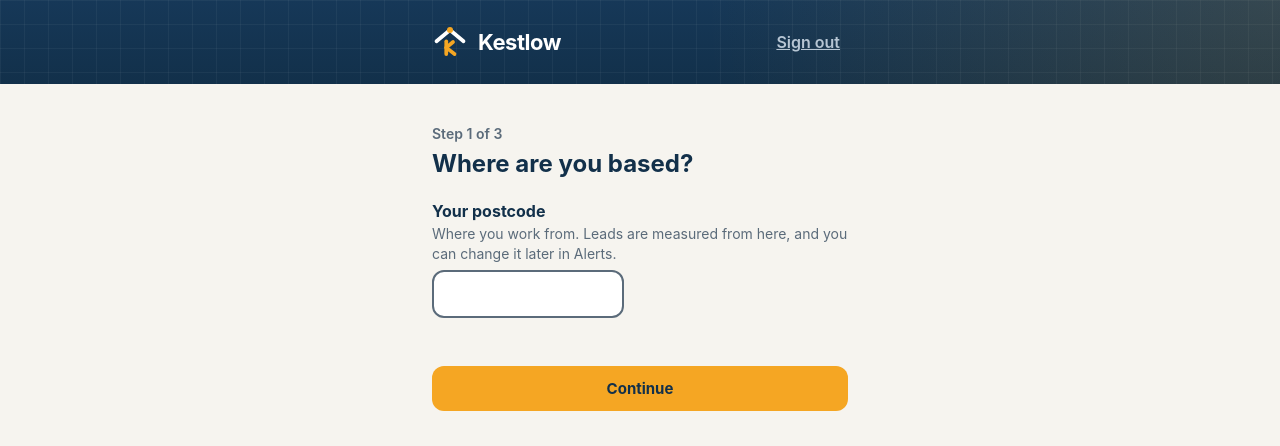
Test: OnboardingGate › can't be skipped: an empty postcode or no trades are refused
Expected: the heading "Where are you based?" is shown, [432,149,693,178]
Click the button "Continue" at (640,389), box [432,366,848,411]
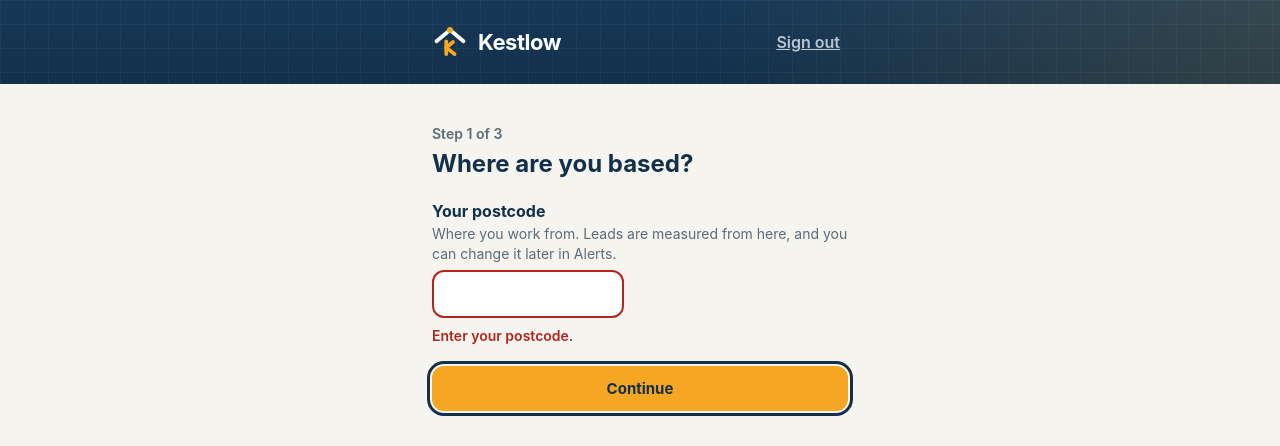
Result: the message reads "Enter your postcode." at [432,327,573,344]
Type "ZZ9 9ZZ" into the field labelled "Your postcode" at (528,294), box [432,270,624,318]
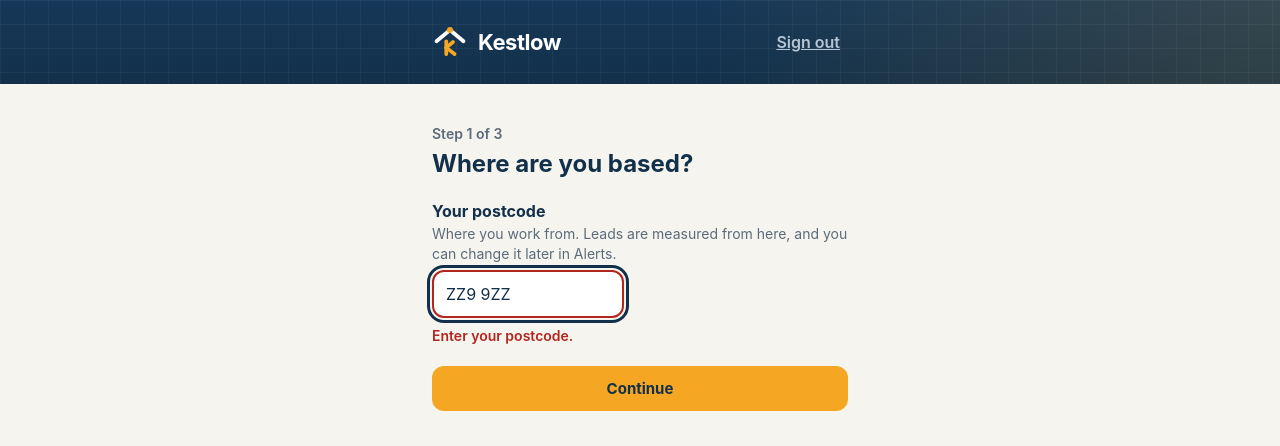
Click the button "Continue" at (640,389), box [432,366,848,411]
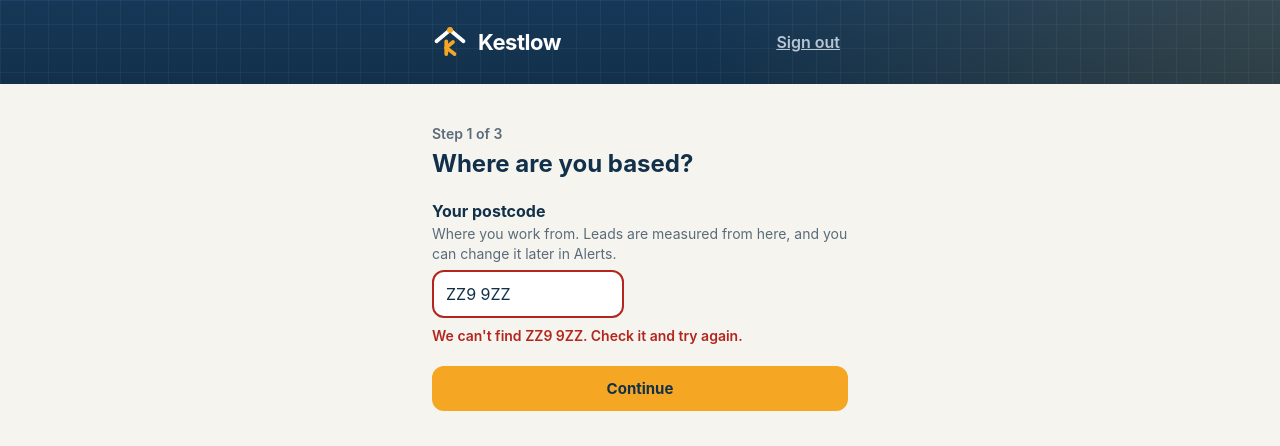
Result: the text "We can't find ZZ9 9ZZ. Check it and try again." is shown at [432,327,743,344]
Replace the text in the field labelled "Your postcode" with "BR1 1AA" at (528,294), box [432,270,624,318]
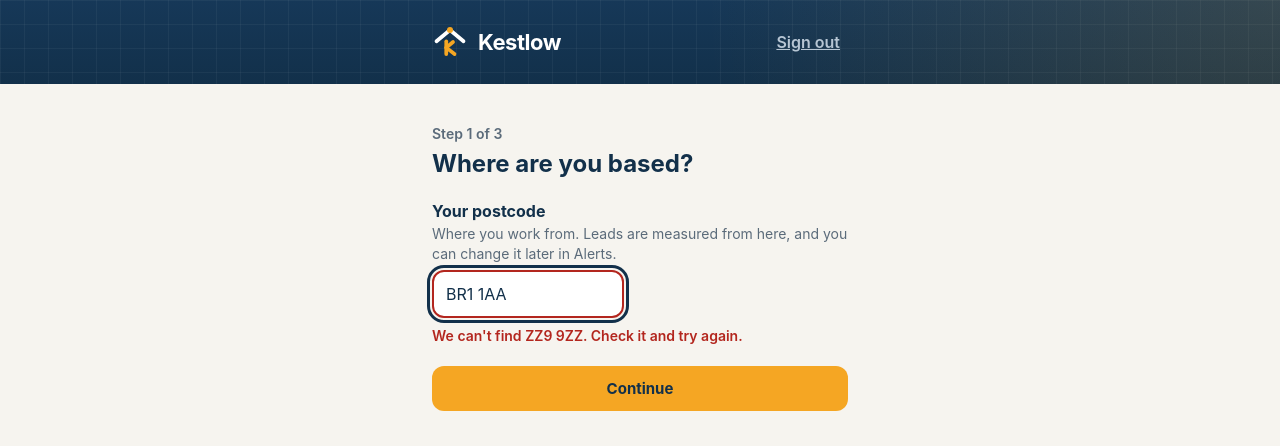
Click the button "Continue" at (640,389), box [432,366,848,411]
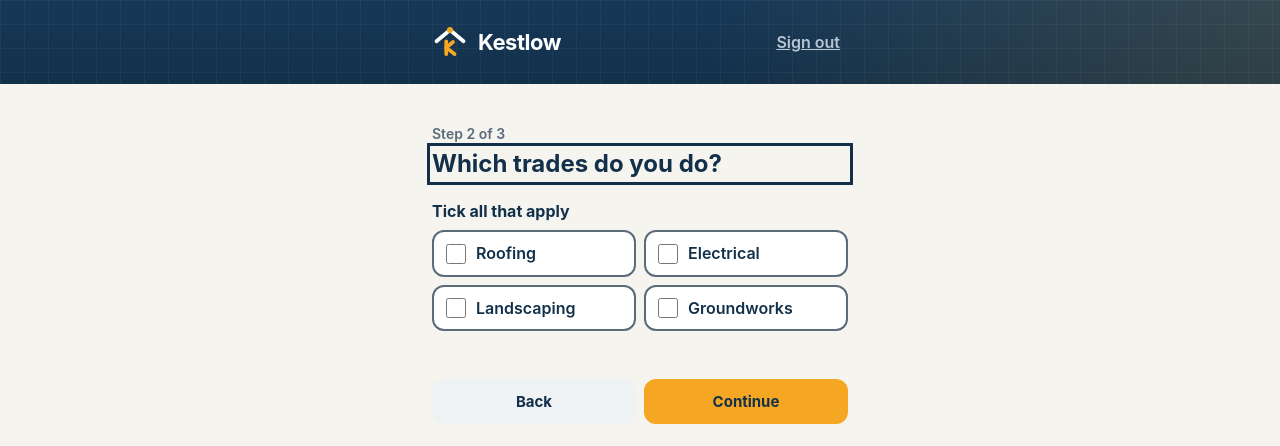
Result: the heading "Which trades do you do?" is shown at [432,149,722,178]
Click the button "Continue" at (746,402), box [644,379,848,424]
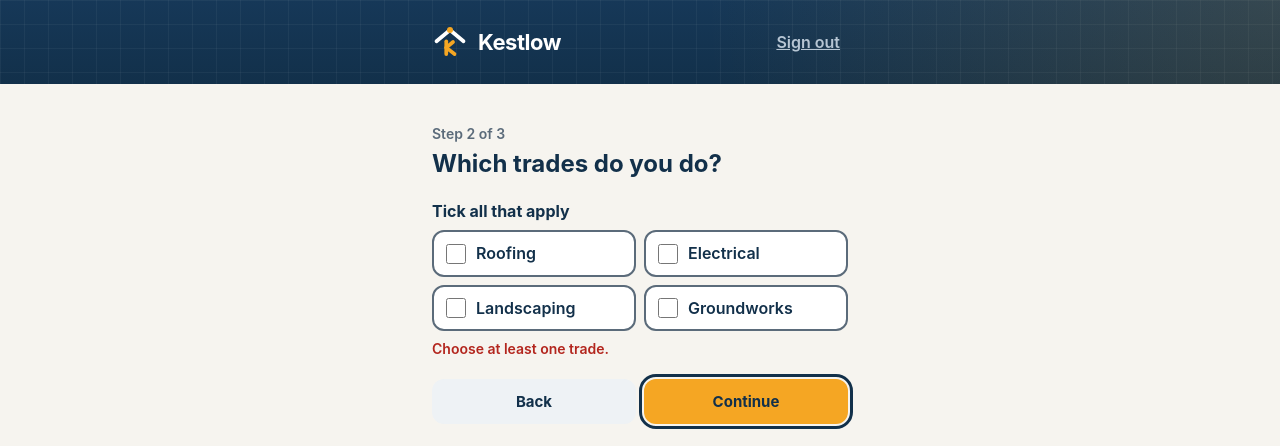
Result: the message reads "Choose at least one trade." at [432,340,609,357]
